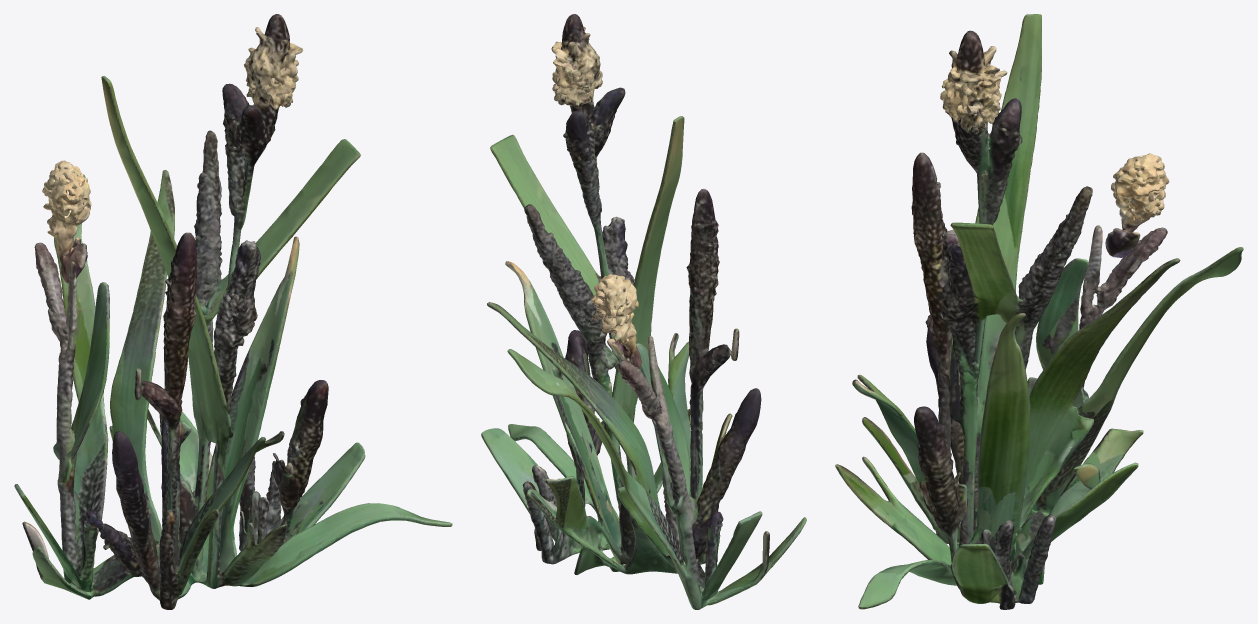
File: sedge-tuft-v12.glb
3 renders of one model, left to right at view 1: azimuth 30°, elevation 25°; view 2: azimuth 150°, elevation 25°; view 3: azimuth 270°, elevation 25°, orthographic. The views are drawn at different scales.
Parts seen in each view (by area): view 1: geometry_0; view 2: geometry_0; view 3: geometry_0.
Part boxes in pixels (x1,y1,x2,y2): geometry_0: (14, 14, 452, 609); geometry_0: (481, 14, 806, 609); geometry_0: (835, 14, 1243, 609).
Size of the model in its own units: 0.5835 by 0.8499 by 0.5499.
Materials: 1 (1 with a texture image).
